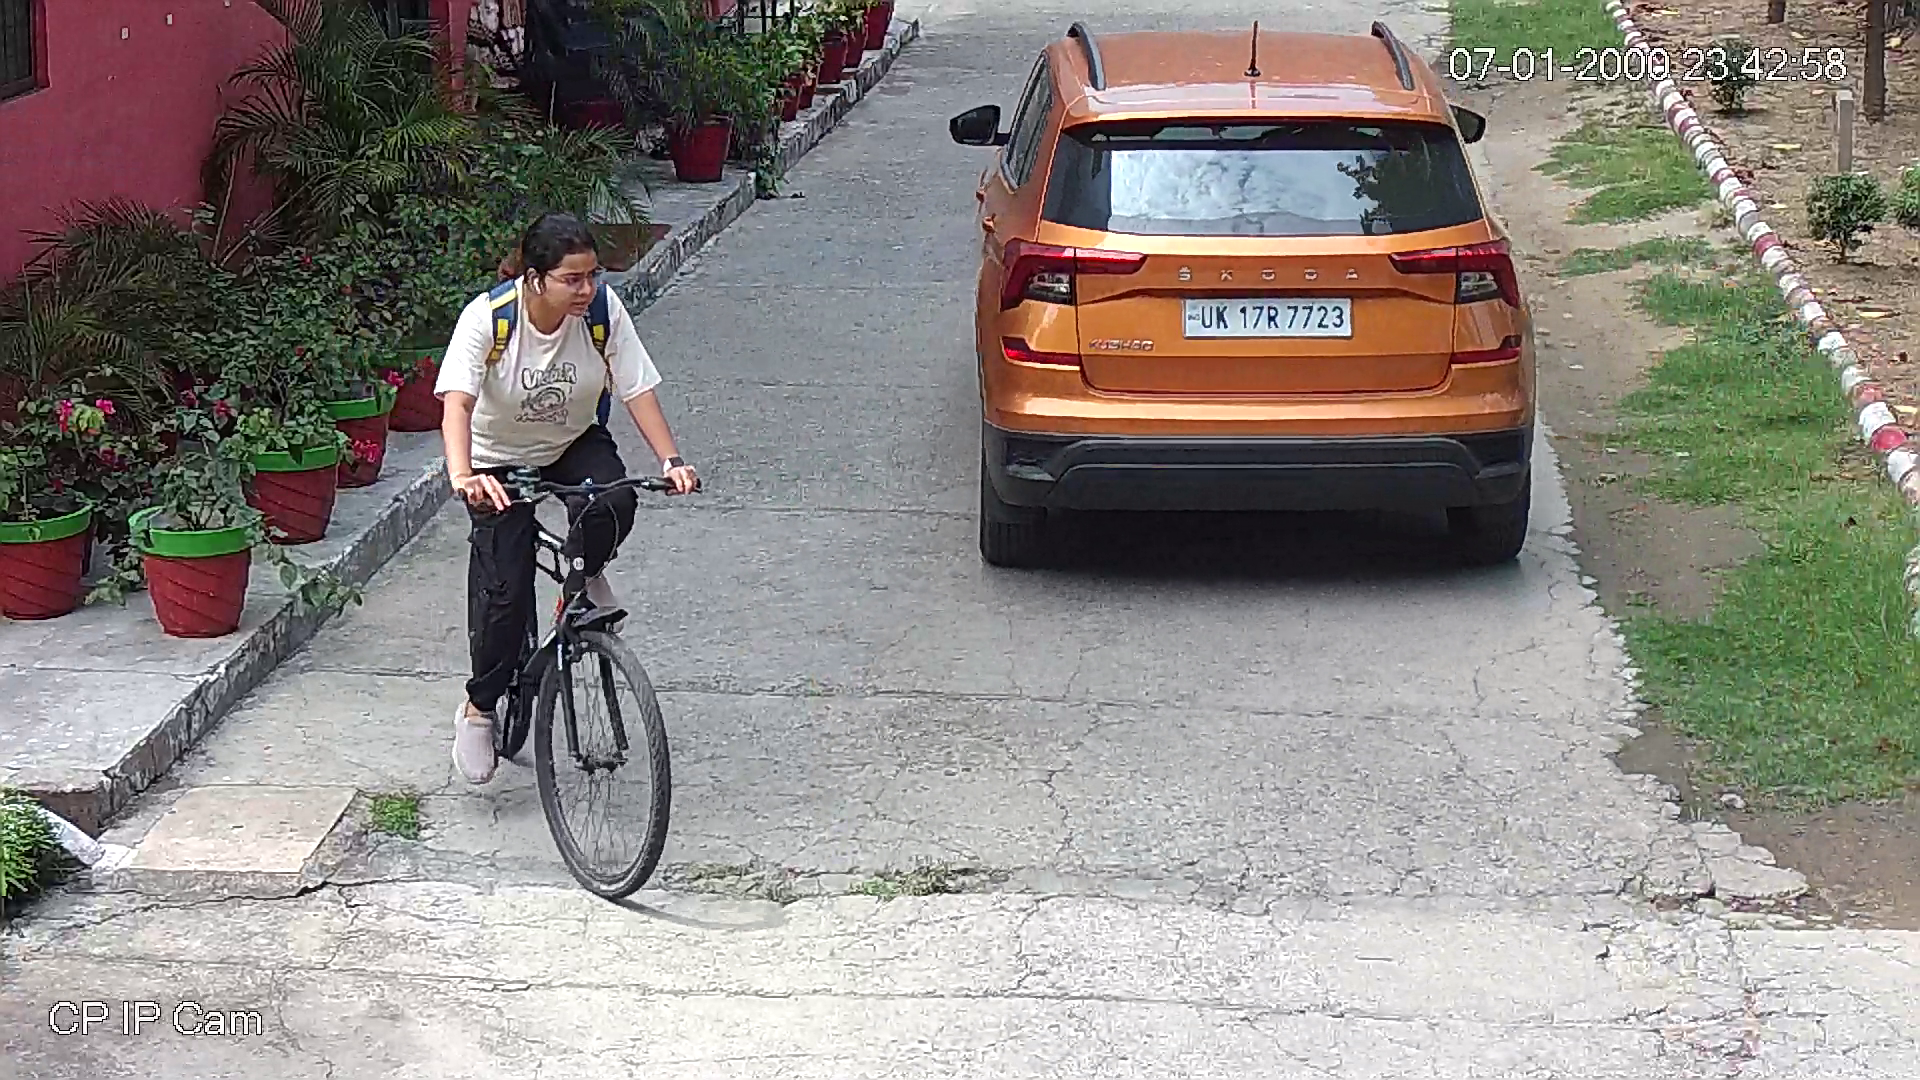plate: (1180, 288, 1361, 338)
